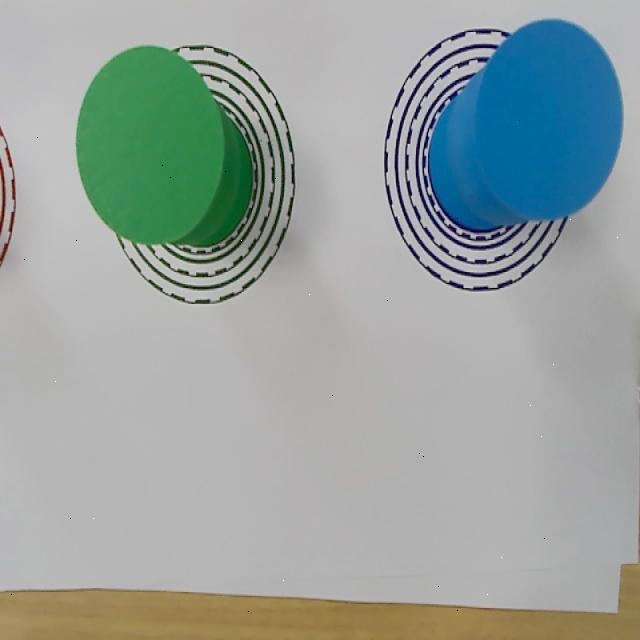b: (476, 19, 622, 220)
g: (77, 46, 224, 246)
